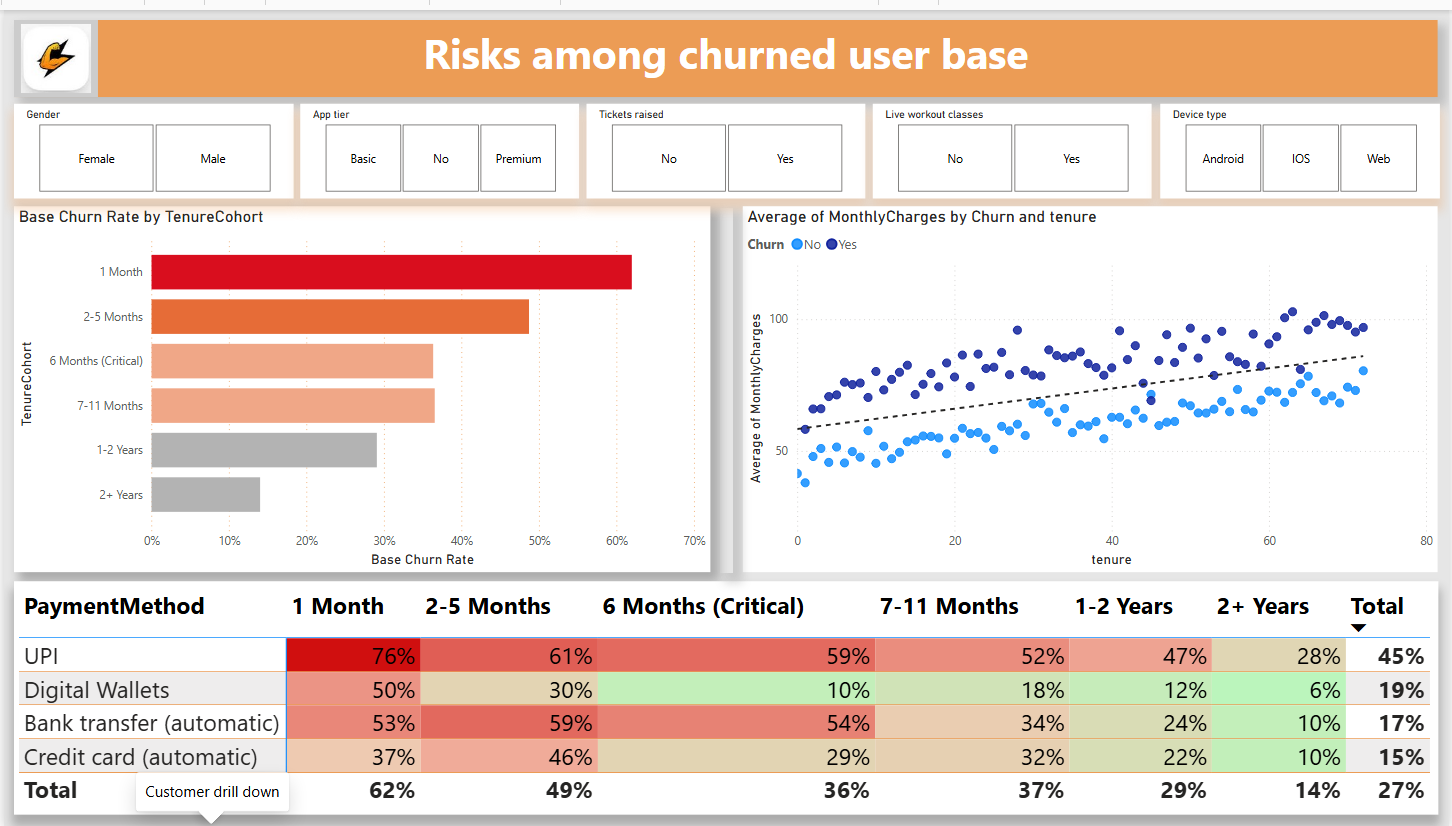

This screenshot's page, from the dashboard's own definition file:
{"tool":"powerbi","page":{"name":"Customer drill down","canvas":[1500,850],"ordinal":1},"visuals":[{"type":"textbox","box":[9.8,9.8,1478.5,80.1],"z":0},{"type":"image","box":[9.8,9.8,87.1,80.1],"z":1000},{"type":"clusteredBarChart","fields":{"Y":["Churn Dashboard v1.Base Churn Rate"],"Category":["Churn Dashboard v1.TenureCohort"]},"box":[9.8,204,723.3,379.9],"z":2000},{"type":"pivotTable","fields":{"Rows":["Churn Dashboard v1.PaymentMethod"],"Columns":["Churn Dashboard v1.TenureCohort"],"Values":["Churn Dashboard v1.Base Churn Rate"]},"box":[9.8,593.8,1478.9,242],"z":3000},{"type":"slicer","fields":{"Values":["Churn Dashboard v1.gender"]},"box":[9.8,97.1,290,98],"z":4000},{"type":"slicer","fields":{"Values":["Churn Dashboard v1.AppTier"]},"box":[308.2,97.1,289.9,98.5],"z":5000},{"type":"slicer","fields":{"Values":["Churn Dashboard v1.TicketRaised"]},"box":[605.1,97.1,289.9,98.5],"z":6000},{"type":"slicer","fields":{"Values":["Churn Dashboard v1.LiveWorkoutClasses"]},"box":[902,97.1,289.9,98.5],"z":7000},{"type":"slicer","fields":{"Values":["Churn Dashboard v1.DeviceType"]},"box":[1200.3,97.1,290,98],"z":8000},{"type":"scatterChart","fields":{"Series":["Churn Dashboard v1.Churn"],"X":["Churn Dashboard v1.tenure"],"Y":["Avg(Churn Dashboard v1.MonthlyCharges)"]},"box":[766.9,204,721.9,379.9],"z":9000},{"type":"shape","box":[744.4,205.4,12.7,379.9],"z":10000}]}

Visuals, with their boxes in screenshot pixels (x1, y1, x2, y2), scaled from the page's 1500x850 canvas onto the 1452x826 screenshot:
textbox: [x1=9, y1=10, x2=1441, y2=87]
image: [x1=9, y1=10, x2=94, y2=87]
clusteredBarChart - Churn Dashboard v1.Base Churn Rate x Churn Dashboard v1.TenureCohort: [x1=9, y1=198, x2=710, y2=567]
pivotTable - Churn Dashboard v1.PaymentMethod x Churn Dashboard v1.TenureCohort: [x1=9, y1=577, x2=1441, y2=812]
slicer - Churn Dashboard v1.gender: [x1=9, y1=94, x2=290, y2=190]
slicer - Churn Dashboard v1.AppTier: [x1=298, y1=94, x2=579, y2=190]
slicer - Churn Dashboard v1.TicketRaised: [x1=586, y1=94, x2=866, y2=190]
slicer - Churn Dashboard v1.LiveWorkoutClasses: [x1=873, y1=94, x2=1154, y2=190]
slicer - Churn Dashboard v1.DeviceType: [x1=1162, y1=94, x2=1443, y2=190]
scatterChart - Churn Dashboard v1.Churn x Churn Dashboard v1.tenure: [x1=742, y1=198, x2=1441, y2=567]
shape: [x1=721, y1=200, x2=733, y2=569]
